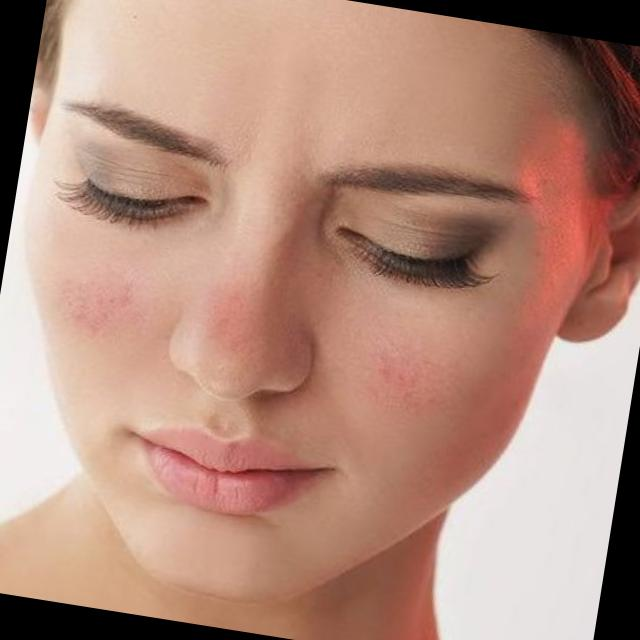redness: (197, 270, 278, 354), (364, 345, 455, 418), (56, 265, 140, 341)
